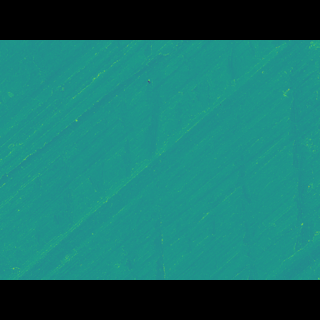Loch: (112, 119, 163, 173)
